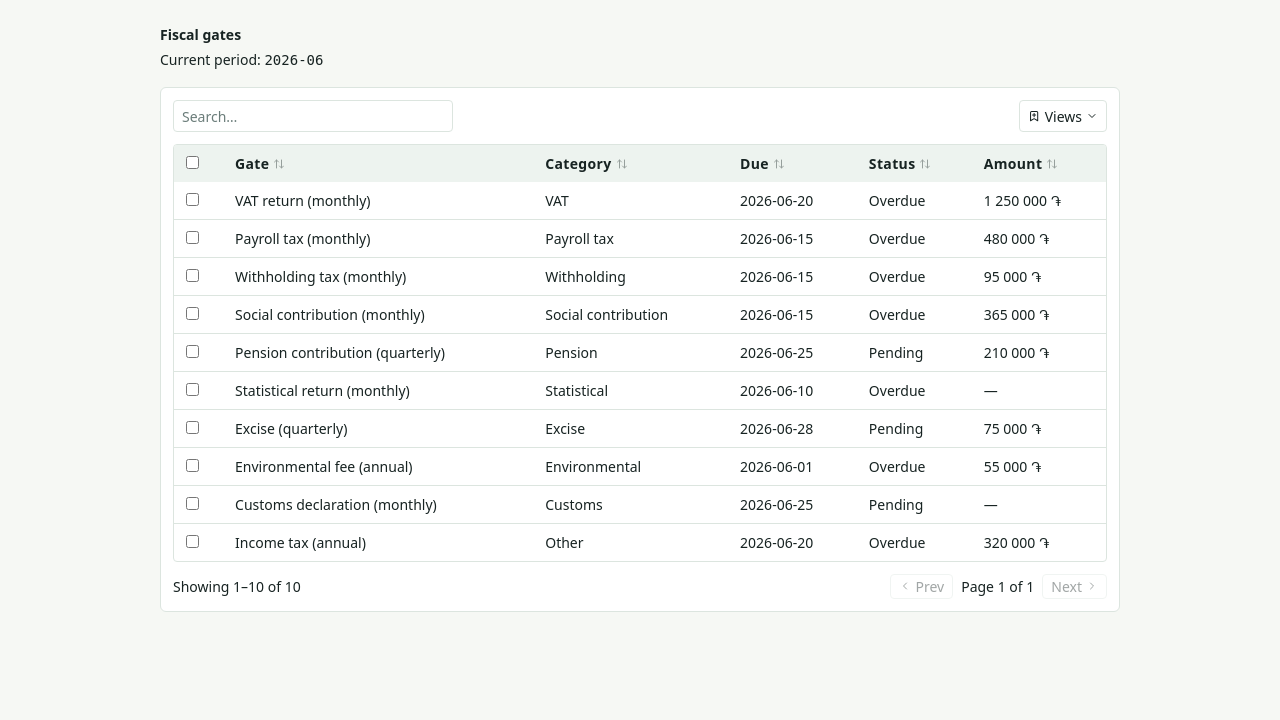
Test case: FiscalGates route — bulk action + undo › selecting rows + clicking 'Mark filed' shows the UndoToast, and Undo reverts
Click the checkbox with test id "data-table-row-select-": click(192, 200) [186, 193, 199, 206]
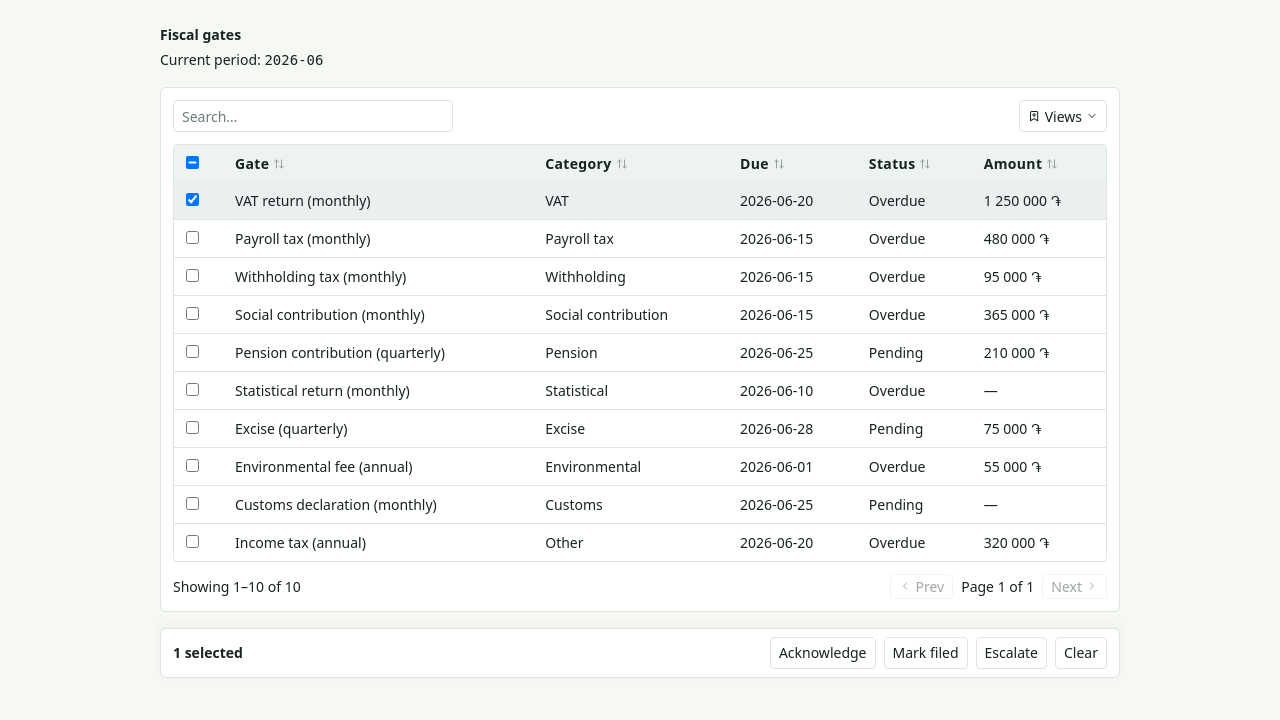
Click the checkbox with test id "data-table-row-select-": click(192, 238) [186, 231, 199, 244]
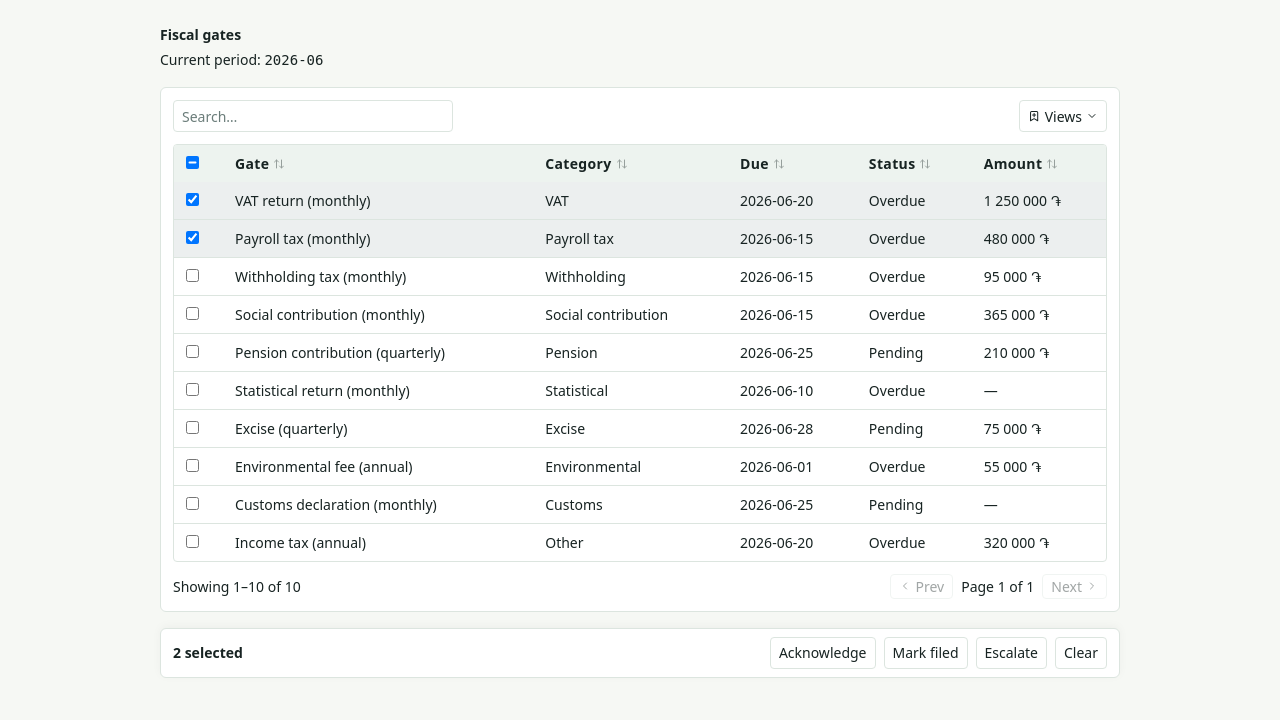
Check: the element with test id "fiscal-gates-bulk-bar" has attribute data-count="2", box [160, 628, 1120, 678]
Click "Mark filed" (testid: fiscal-gates-bulk-mark_filed)
Click the button with test id "fiscal-gates-bulk-mark_filed": click(926, 652) [884, 636, 968, 668]
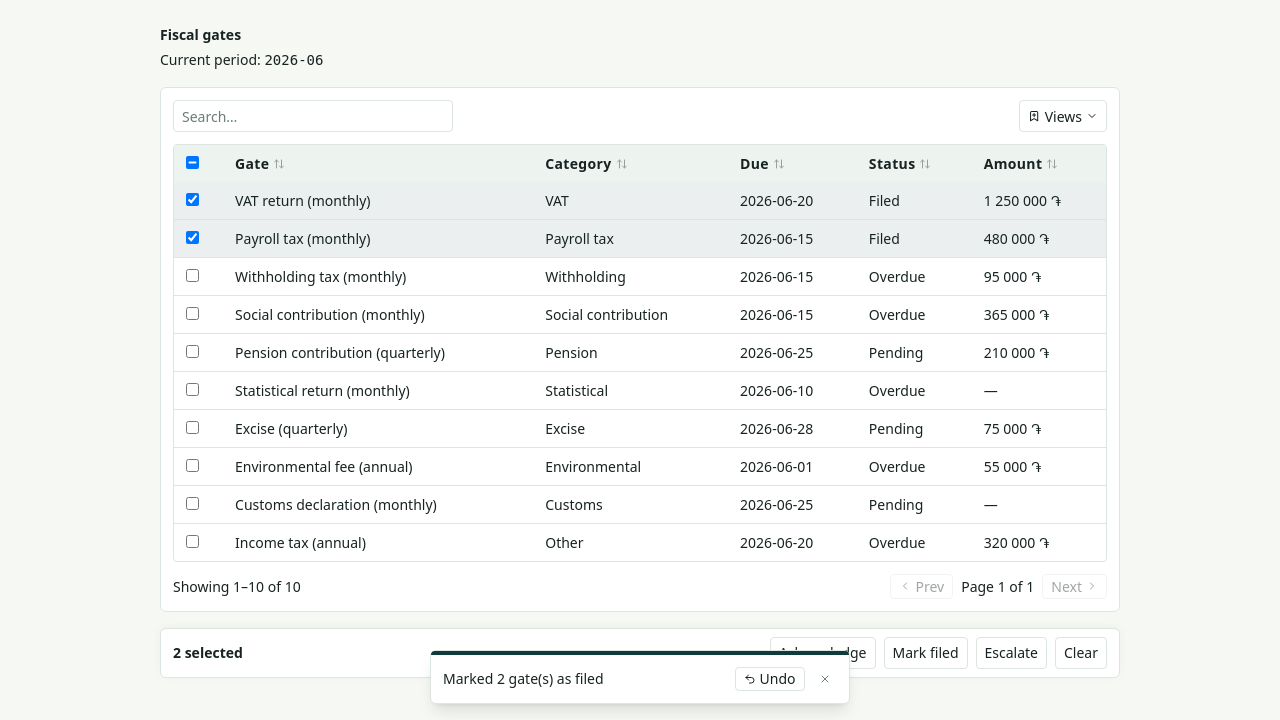
Check: the message "Marked 2 gate(s) as filed Undo" is shown, box [430, 650, 850, 704]
Check: the message with test id "undo-toast" shows "Marked", box [443, 669, 497, 688]
Click the button with test id "undo-toast-action": click(770, 679) [734, 666, 804, 691]
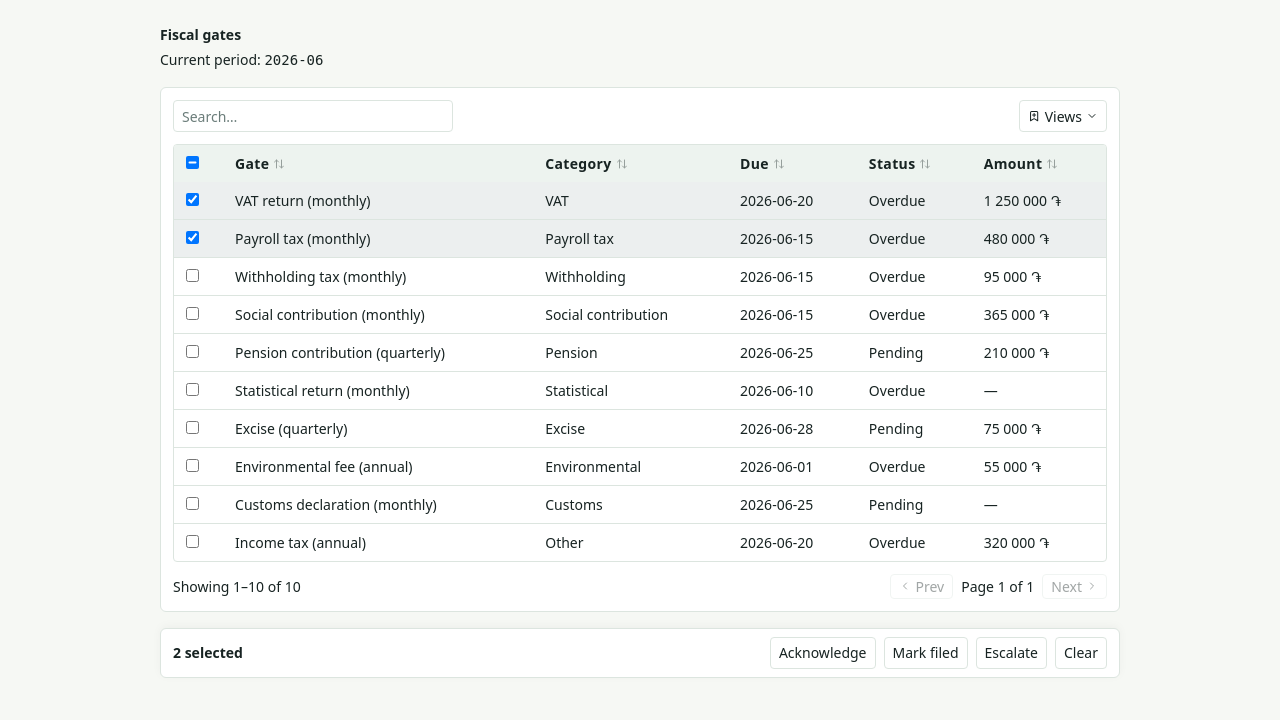
Check: the message with test id "undo-toast" is gone
